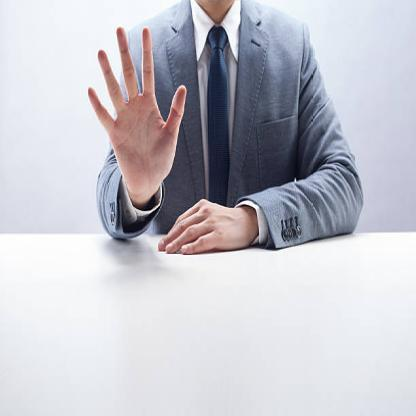stop: (84, 21, 190, 198)
